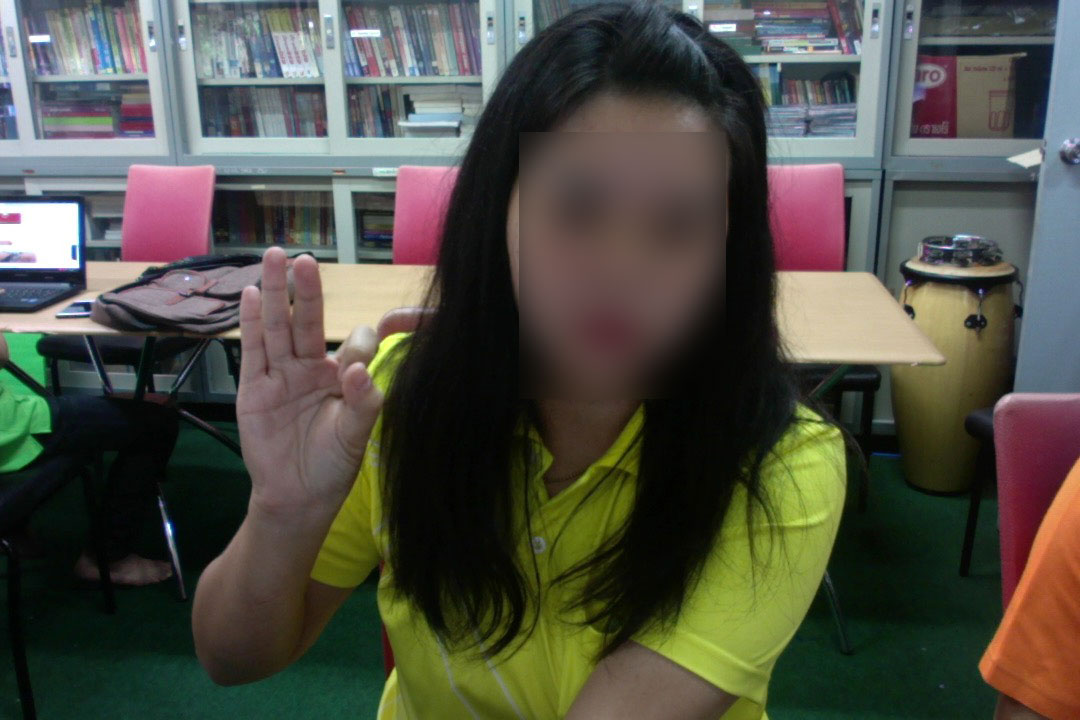for: (229, 242, 387, 505)
